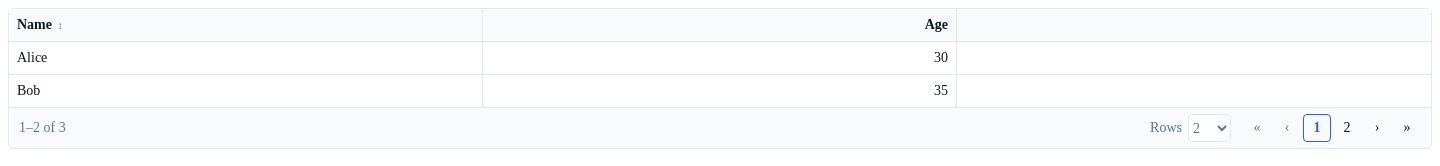
Scenario: focus and selection › clears the focus when the page changes
Step 1. Press the mouse on the cell "Alice" → coordinates (246, 58), box [9,42,483,75]
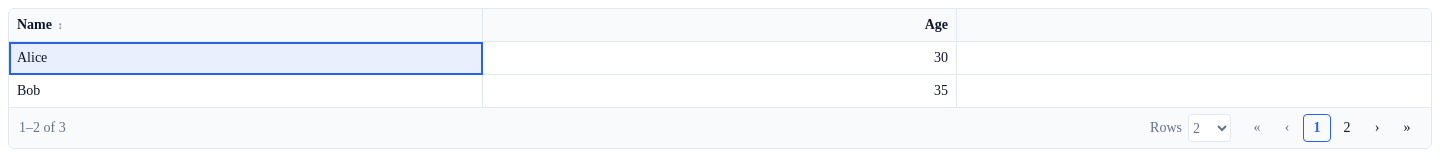
Step 2. Click the button named "Next page" → coordinates (1377, 128), box [1363,114,1391,142]
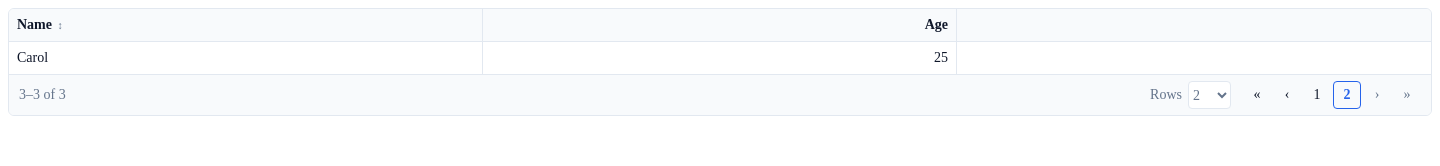
Result: the cell with class "ssdg-focused" is gone
